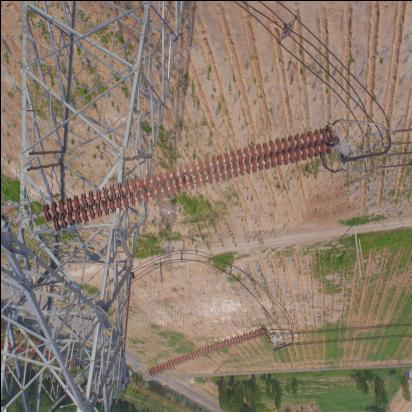insulator: (24, 133, 345, 230), (139, 330, 274, 377)
